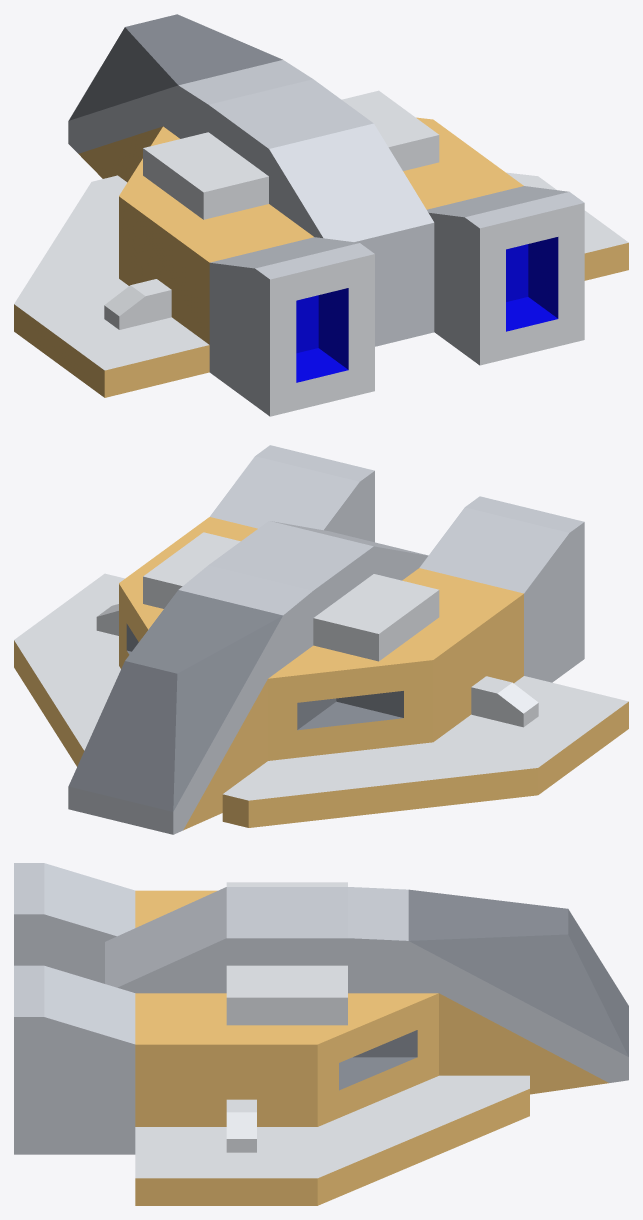
File: craft_speederB_scaled.glb
3 renders of one model, top to bottom at view 1: azimuth 30°, elevation 25°; view 2: azimuth 150°, elevation 25°; view 3: azimuth 270°, elevation 25°, orthographic.
Visible parts, largest first — view 1: craft_speederB; view 2: craft_speederB; view 3: craft_speederB.
Boxes of the visible parts, x1,y1,x2,y2 form: craft_speederB: [14, 14, 628, 416]; craft_speederB: [14, 445, 628, 834]; craft_speederB: [14, 863, 628, 1205].
Bounding box in the file's own units: 20 × 6 × 20.26.
